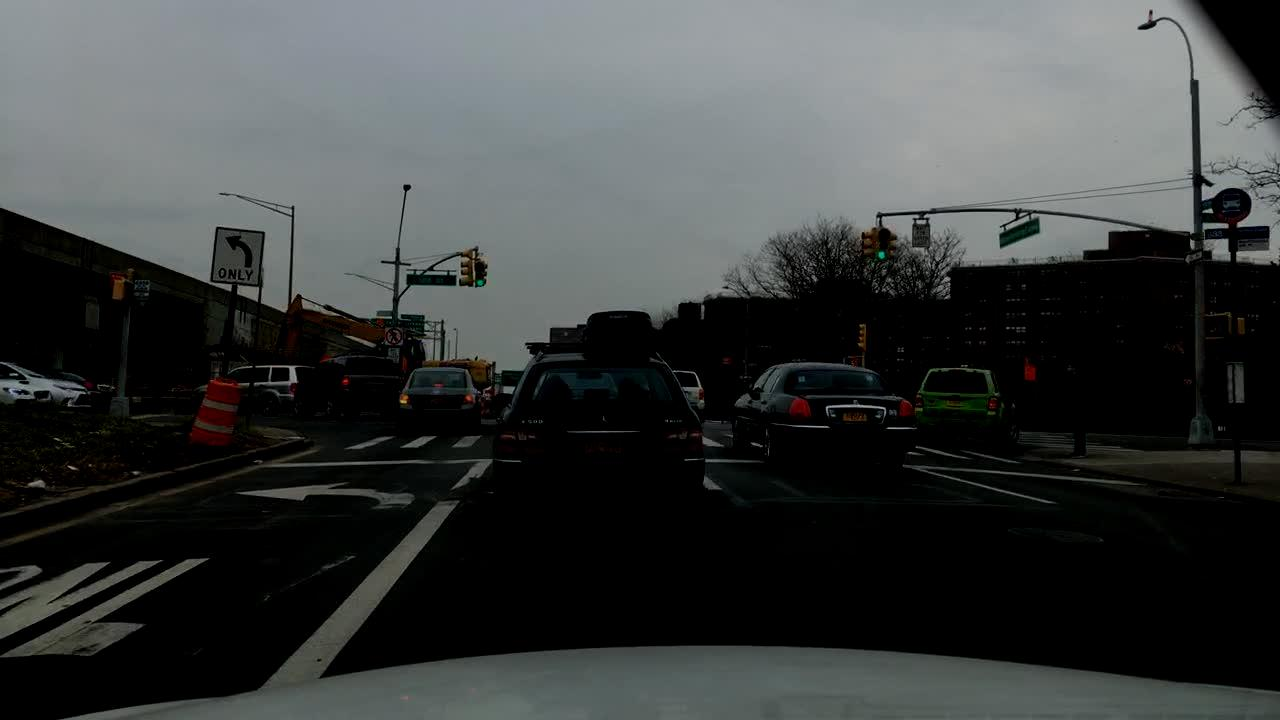Mercedes: (589, 407, 619, 431)
